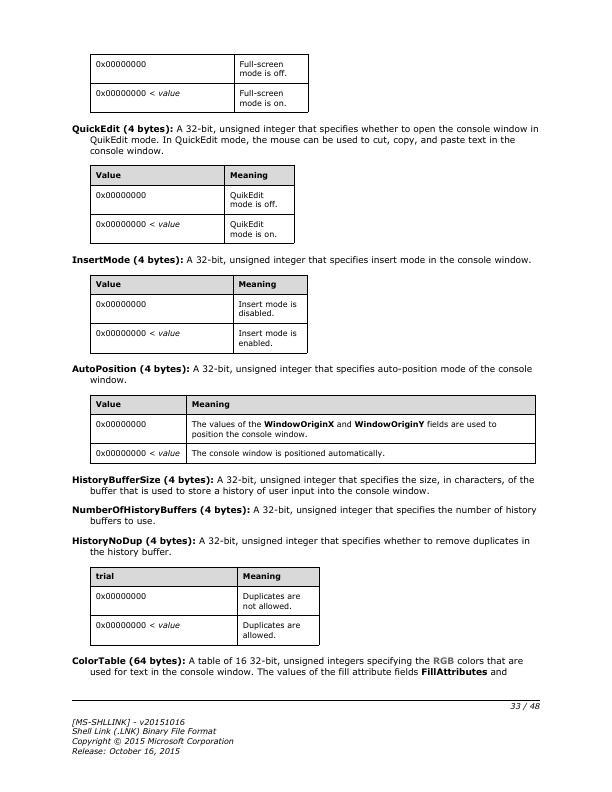table: (90, 394, 538, 466), (87, 566, 322, 648), (88, 273, 309, 355), (90, 163, 298, 246), (87, 50, 311, 115)
text: (70, 122, 540, 157), (68, 473, 535, 498), (68, 534, 533, 559), (68, 503, 537, 526), (70, 363, 535, 386), (70, 654, 524, 677), (68, 715, 234, 758), (67, 253, 533, 266)
